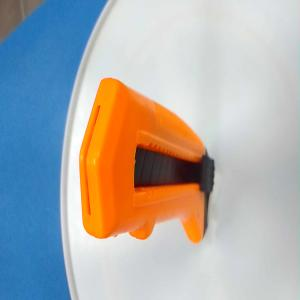estilete: (79, 77, 215, 245)
